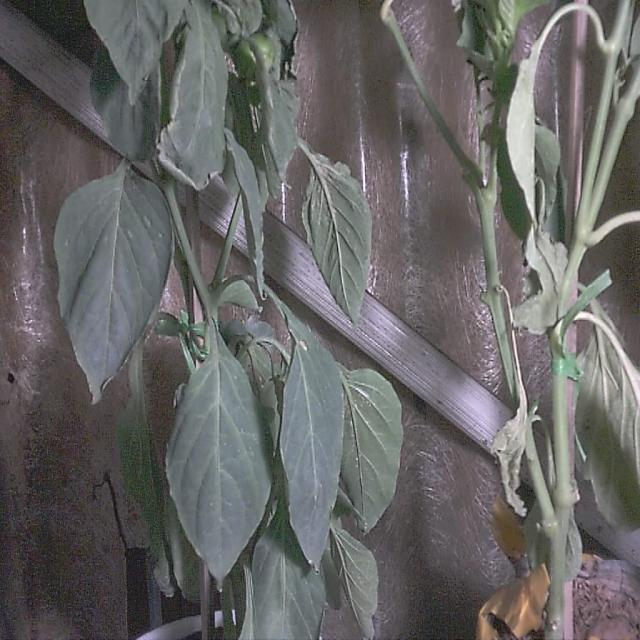Leaf: (55, 161, 173, 402), (167, 329, 270, 585), (159, 0, 228, 189), (303, 147, 371, 323), (85, 0, 187, 104), (342, 370, 403, 532)
